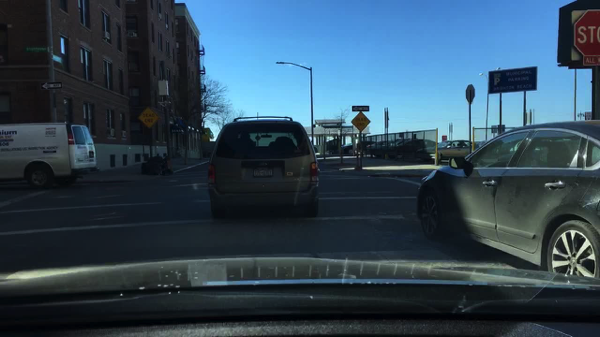car: (415, 119, 599, 279), (206, 116, 319, 219), (416, 139, 479, 163), (387, 141, 436, 157), (366, 136, 391, 157), (379, 139, 403, 160), (342, 141, 371, 154)
traffic sign: (571, 8, 599, 67), (488, 67, 537, 95), (136, 106, 160, 128), (350, 113, 370, 132), (25, 44, 49, 53), (41, 81, 63, 90), (463, 84, 474, 100), (351, 104, 368, 112), (200, 132, 210, 141), (496, 125, 505, 135), (54, 55, 62, 65), (489, 125, 496, 133)
truck: (0, 122, 101, 191)
